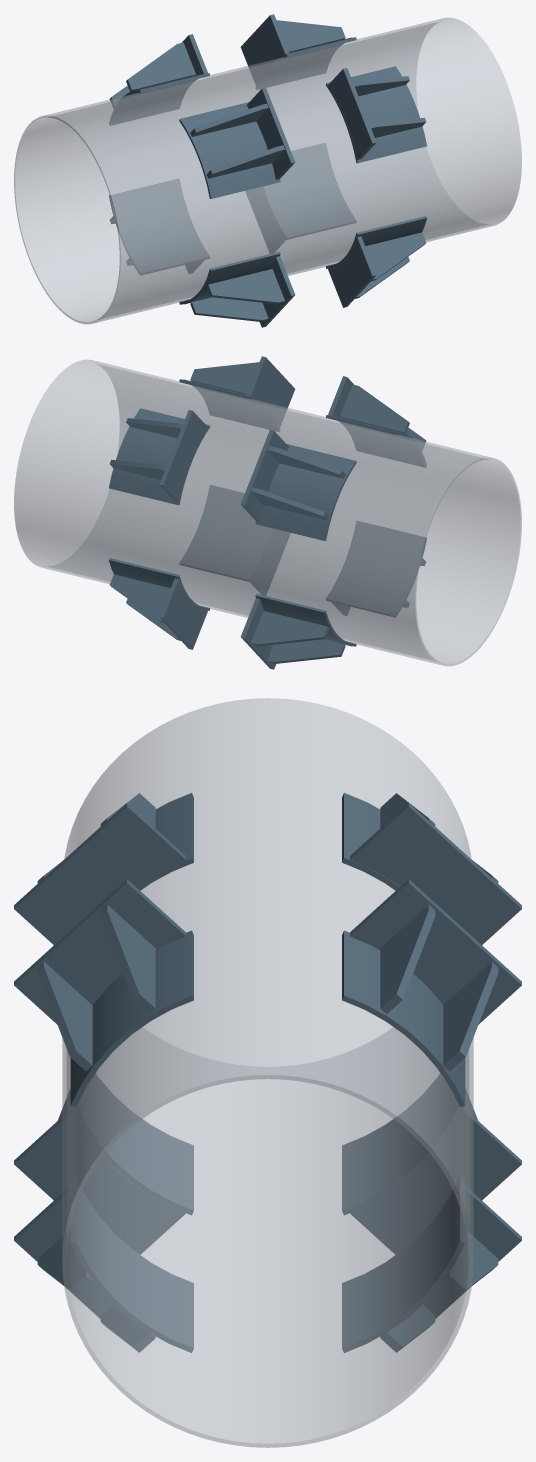
File: TS-664.00.00-03-opora-dn720-ris2.glb
3 views of the same model, one above another, from view 1: azimuth 30°, elevation 25°; view 2: azimuth 150°, elevation 25°; view 3: azimuth 270°, elevation 25° (orthographic). The views are drawn at different scales.
Parts seen in each view (by area): view 1: truba, det_24, det_20, det_8, det_4, det_28, det_32, det_1, det_14, det_9, det_31, det_25 (+13 smaller); view 2: truba, det_16, det_12, det_32, det_28, det_4, det_8, det_25, det_23, det_17, det_6, det_1 (+13 smaller); view 3: truba, det_5, det_29, det_12, det_20, det_13, det_21, det_16, det_24, det_1, det_25, det_4 (+13 smaller).
Boxes of the visible parts, x1,y1,x2,y2 form: truba: [14, 17, 521, 324]; det_24: [109, 179, 209, 275]; det_20: [262, 143, 356, 239]; det_8: [179, 102, 280, 198]; det_4: [326, 66, 426, 163]; det_28: [256, 37, 356, 89]; det_32: [109, 73, 209, 125]; det_1: [328, 68, 376, 159]; det_14: [206, 269, 284, 304]; det_9: [328, 236, 376, 307]; det_31: [126, 42, 195, 91]; det_25: [240, 14, 288, 84]; truba: [14, 359, 521, 666]; det_16: [326, 521, 426, 617]; det_12: [179, 485, 273, 581]; det_32: [255, 444, 356, 540]; det_28: [109, 408, 209, 505]; det_4: [179, 379, 279, 431]; det_8: [326, 415, 426, 467]; det_25: [159, 410, 207, 501]; det_23: [251, 611, 329, 646]; det_17: [159, 578, 207, 649]; det_6: [340, 384, 409, 433]; det_1: [247, 356, 295, 426]; truba: [62, 698, 473, 1447]; det_5: [14, 803, 185, 944]; det_29: [350, 803, 521, 944]; det_12: [70, 1177, 193, 1352]; det_20: [342, 1177, 465, 1352]; det_13: [14, 1108, 185, 1254]; det_21: [350, 1108, 521, 1254]; det_16: [71, 1074, 193, 1215]; det_24: [342, 1074, 464, 1215]; det_1: [14, 879, 185, 1024]; det_25: [350, 879, 521, 1024]; det_4: [70, 930, 193, 1107].
Bounding box in the file's own units: 1560 × 889 × 889.
